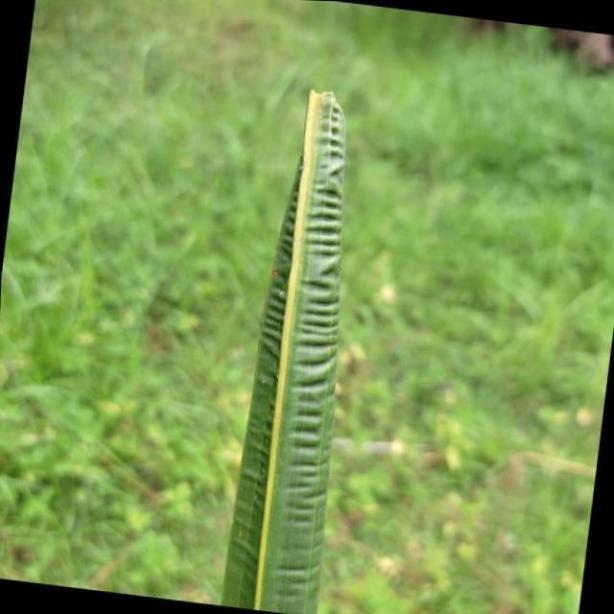Boron: (220, 89, 351, 614)
